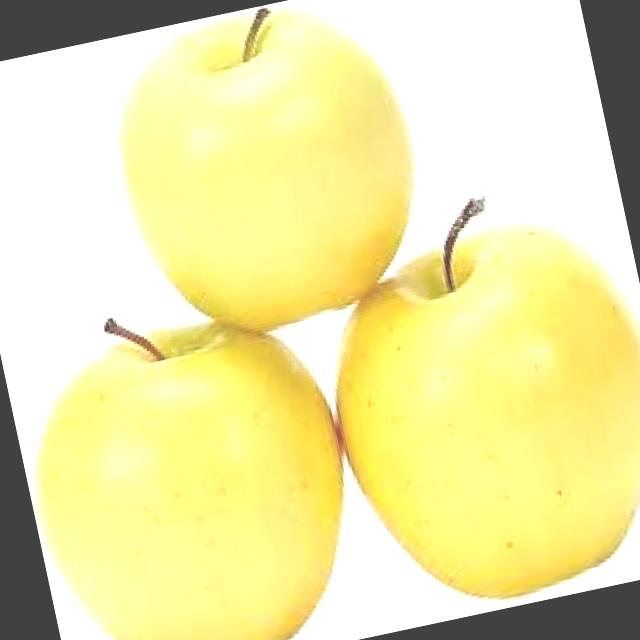Apple: (291, 167, 640, 635), (0, 272, 384, 640), (71, 0, 456, 362)
